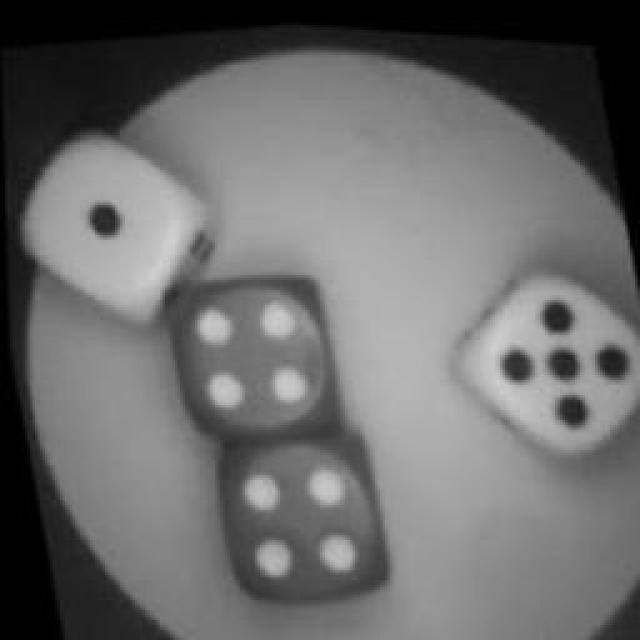dice_1: (2, 114, 218, 336)
dice_4: (204, 404, 398, 618), (152, 250, 352, 455)
dice_5: (437, 237, 640, 464)
